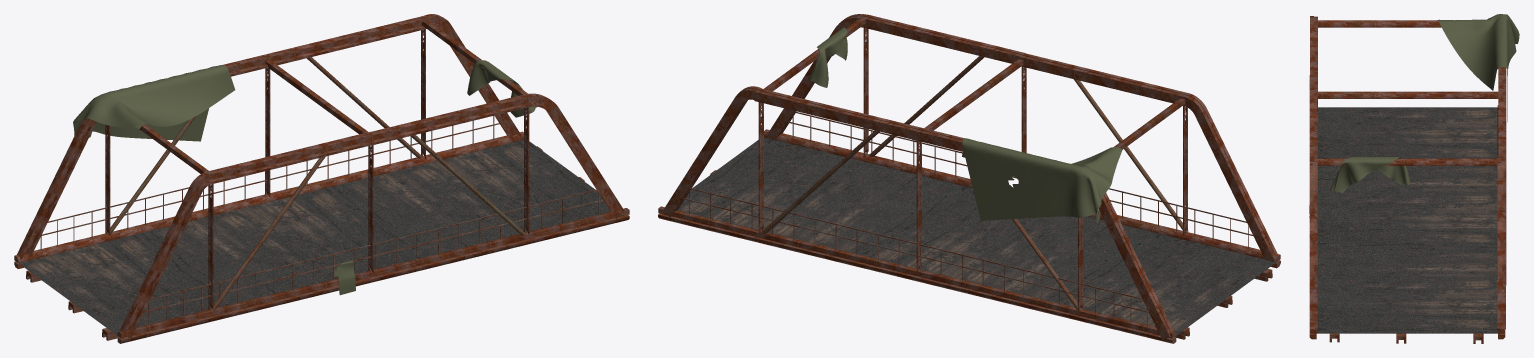
File: bridge.fbx
3 views of the same model, side by side, from view 1: azimuth 30°, elevation 25°; view 2: azimuth 150°, elevation 25°; view 3: azimuth 270°, elevation 25° (orthographic). The views are drawn at different scales.
Visible parts, largest first — view 1: Bridge, Misc; view 2: Bridge, Misc; view 3: Bridge, Misc.
Boxes of the visible parts, bbox=[...] form: Bridge: bbox=[14, 14, 629, 343]; Misc: bbox=[73, 60, 536, 295]; Bridge: bbox=[658, 14, 1280, 343]; Misc: bbox=[809, 27, 1122, 223]; Bridge: bbox=[1309, 16, 1506, 343]; Misc: bbox=[1309, 14, 1519, 217].
Size of the model in its own units: 2679 by 774 by 1039.
